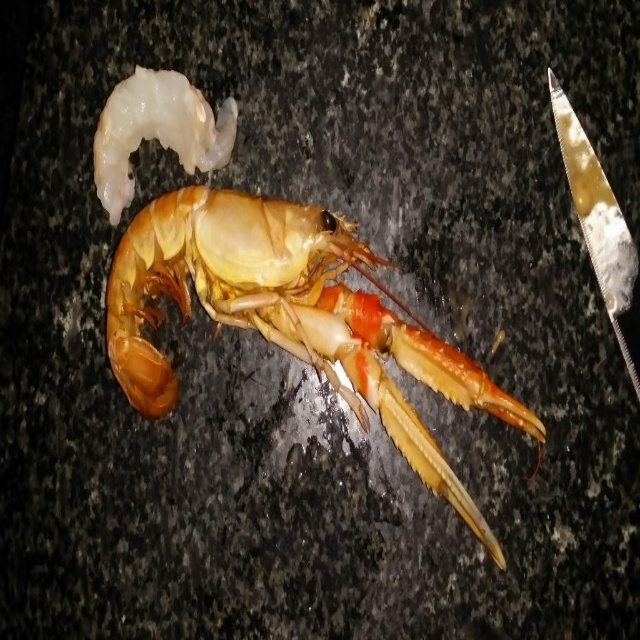Crab: (106, 185, 546, 572)
